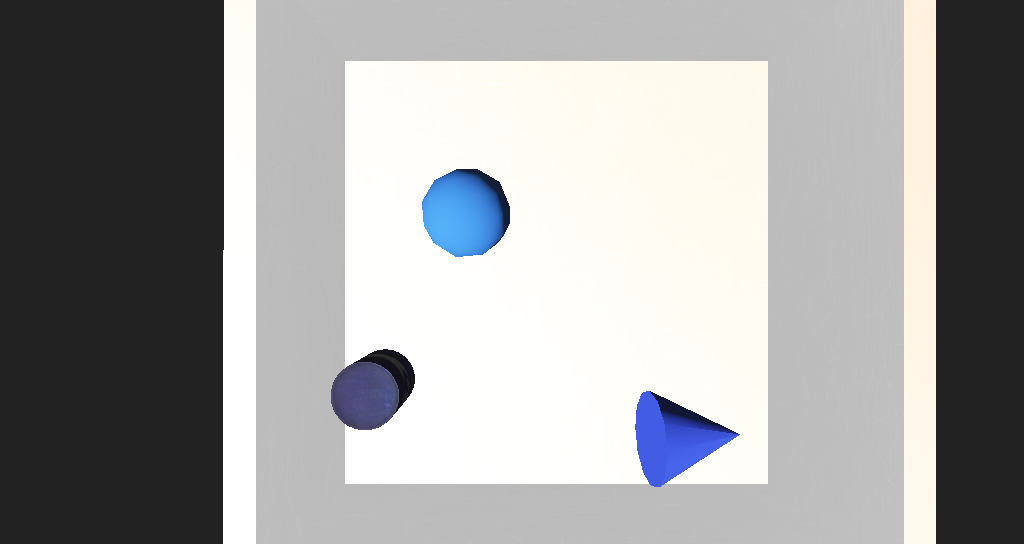cone: (347, 305, 408, 344)
cylinder: (559, 327, 640, 379)
sphere: (414, 215, 475, 262)
